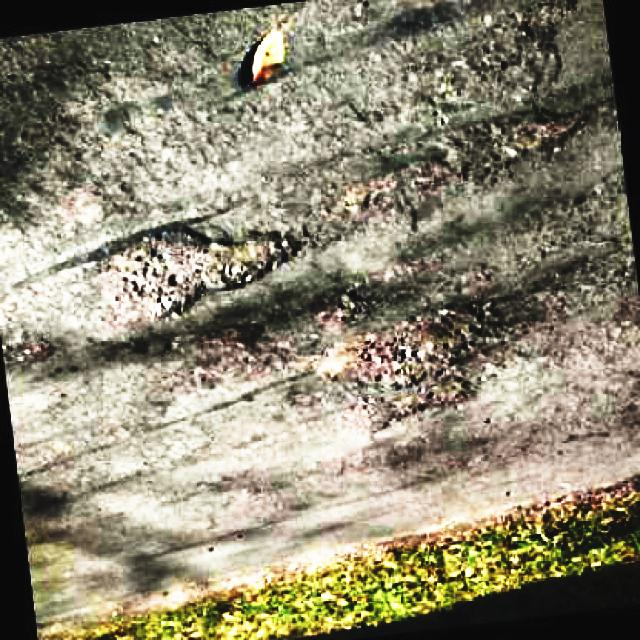pothole: (316, 291, 518, 434), (100, 212, 318, 325)
